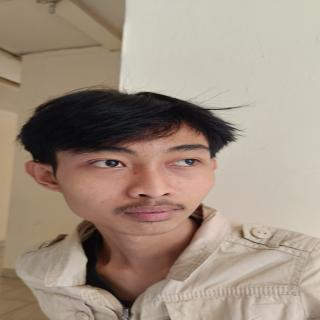Takut: (47, 106, 226, 244)
